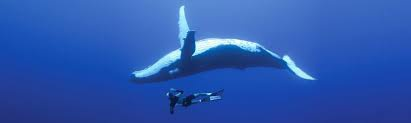humpback: (128, 41, 317, 83)
